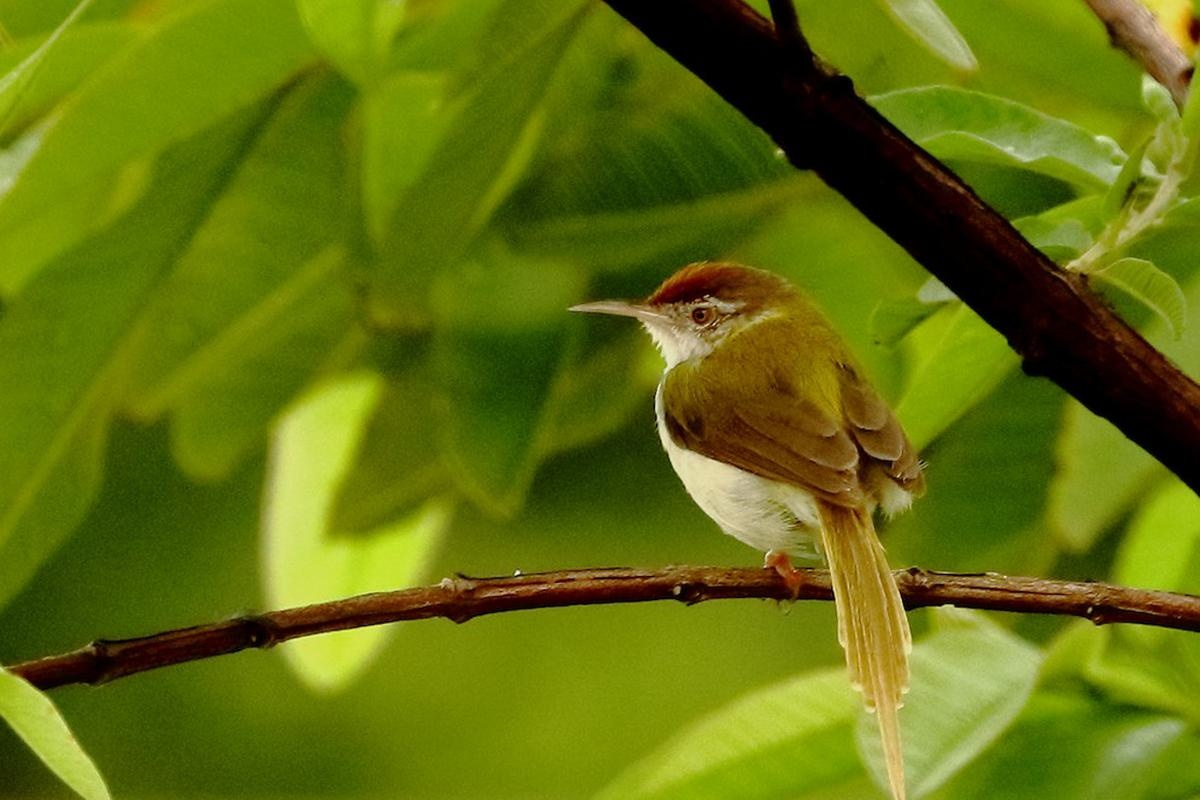tailorbird: (579, 232, 961, 684)
